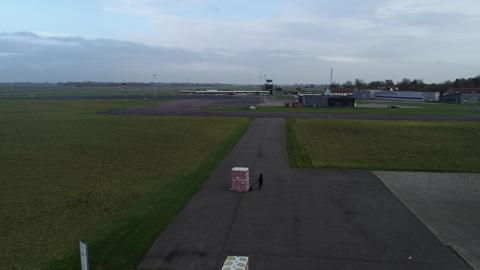RockwoolPallet: (232, 167, 248, 196)
